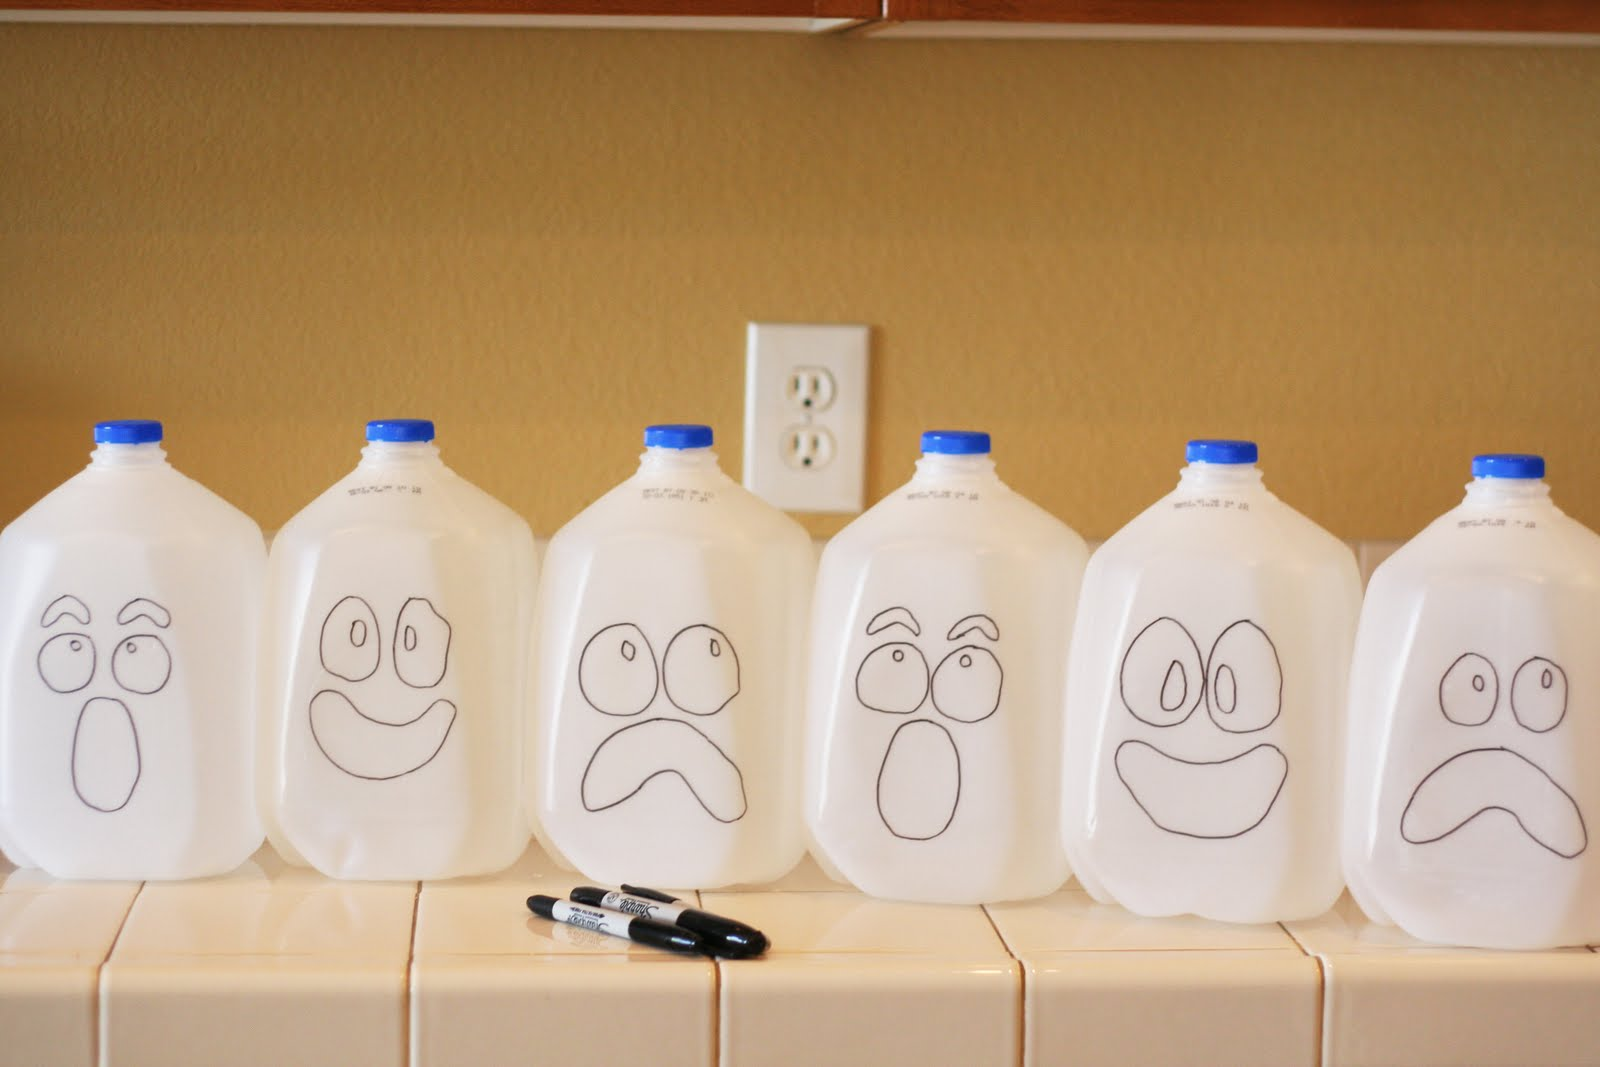Rec_Plastic: (1055, 410, 1350, 922), (786, 408, 1077, 910), (248, 401, 533, 890), (517, 411, 799, 897), (1336, 425, 1593, 955), (1, 414, 283, 894)
